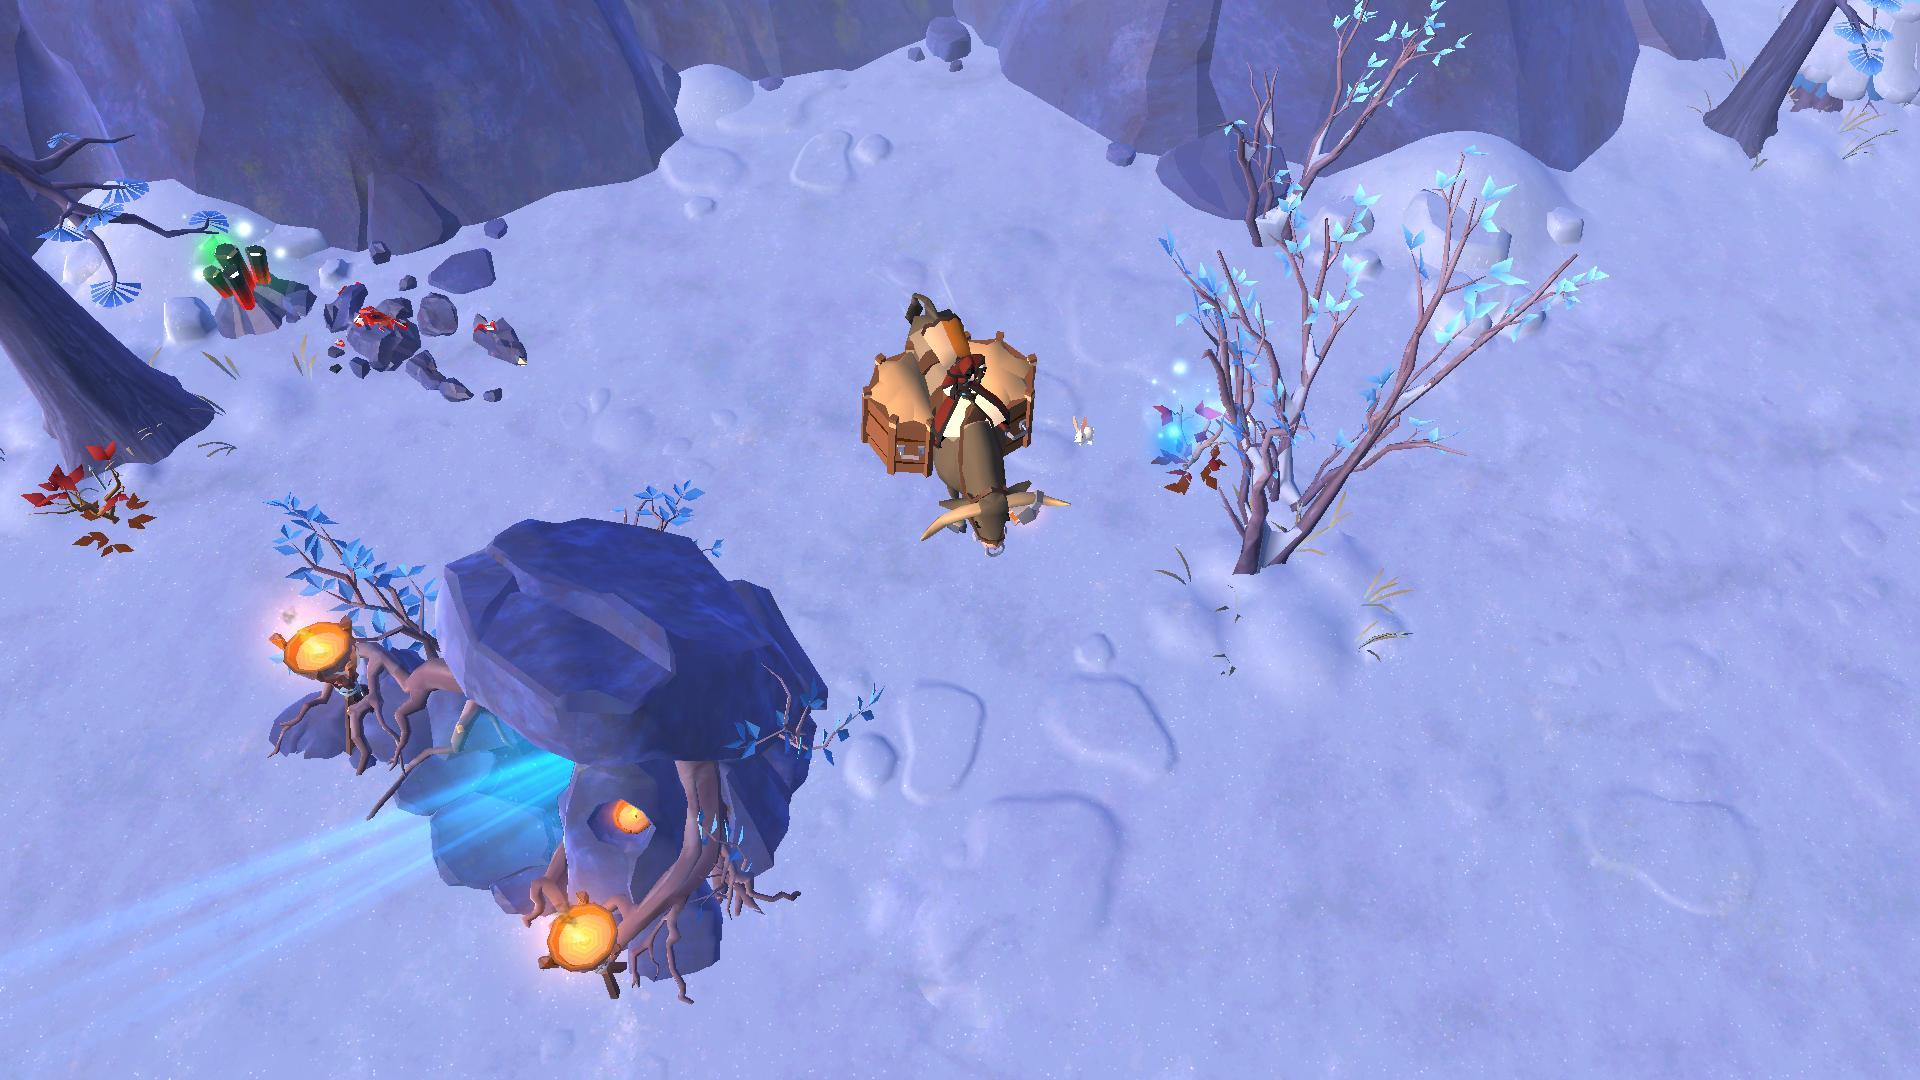ore_t5: (195, 235, 274, 307)
